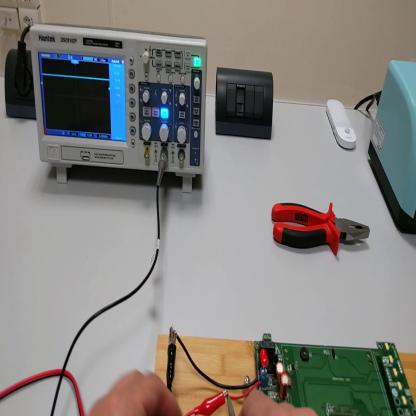hand: (88, 363, 183, 414), (240, 386, 319, 414)
low voltage board: (176, 335, 416, 415)
oscilloscope: (29, 23, 209, 196)
oscilloscope probe tip: (225, 393, 235, 415)
pliers: (272, 198, 370, 256)
socket: (5, 50, 37, 123)
welder station: (369, 61, 416, 236)
working area: (155, 334, 415, 416)
